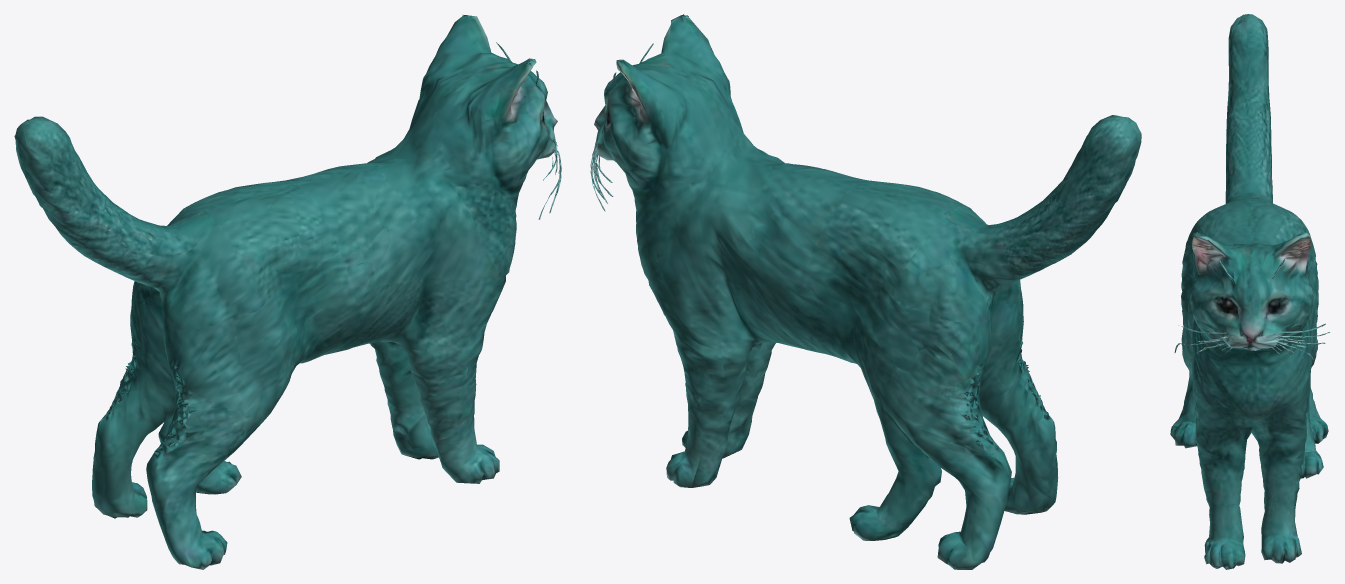
The model's file is MOONRESCUE-lo.glb.
3 views of the same model, side by side, from view 1: azimuth 30°, elevation 25°; view 2: azimuth 150°, elevation 25°; view 3: azimuth 270°, elevation 25° (orthographic). The views are drawn at different scales.
Visible parts, largest first — view 1: tripo_node_665b9484-f0a6-494c-9ff0-6f88a7e82086; view 2: tripo_node_665b9484-f0a6-494c-9ff0-6f88a7e82086; view 3: tripo_node_665b9484-f0a6-494c-9ff0-6f88a7e82086.
Part boxes in pixels (box(x1,y1,x2,y2)): tripo_node_665b9484-f0a6-494c-9ff0-6f88a7e82086: box(14, 14, 561, 569); tripo_node_665b9484-f0a6-494c-9ff0-6f88a7e82086: box(590, 14, 1141, 569); tripo_node_665b9484-f0a6-494c-9ff0-6f88a7e82086: box(1170, 14, 1330, 569).
Size of the model in its own units: 1.25 by 0.9974 by 0.3861.
1 material, 1 textured.
